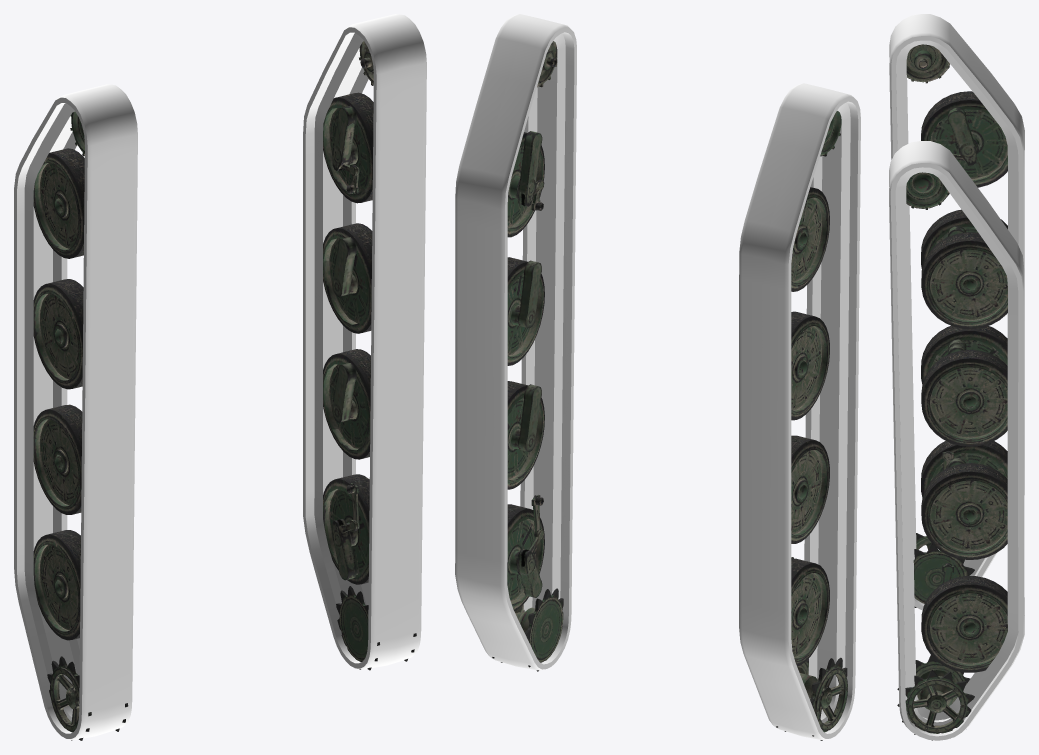
Rendered from Chassis.glb.
The picture shows the model from 3 angles, left to right: view 1: azimuth 30°, elevation 25°; view 2: azimuth 150°, elevation 25°; view 3: azimuth 270°, elevation 25°; orthographic projection. The views are drawn at different scales.
Visible parts, largest first — view 1: set_0_group_0, set_1_group_0, set_2_group_0, set_3_group_0; view 2: set_0_group_0, set_1_group_0, set_3_group_0, set_2_group_0; view 3: set_3_group_0, set_1_group_0, set_2_group_0, set_0_group_0.
Boxes of the visible parts, x1,y1,x2,y2 form: set_0_group_0: [14, 84, 137, 739]; set_1_group_0: [303, 14, 426, 669]; set_2_group_0: [33, 111, 128, 740]; set_3_group_0: [323, 41, 416, 670]; set_0_group_0: [739, 83, 860, 739]; set_1_group_0: [455, 14, 576, 670]; set_3_group_0: [492, 41, 563, 671]; set_2_group_0: [776, 111, 847, 740]; set_3_group_0: [897, 172, 1007, 740]; set_1_group_0: [889, 141, 1024, 740]; set_2_group_0: [906, 44, 1007, 607]; set_0_group_0: [889, 14, 1024, 610].
Bounding box in the file's own units: 2.75 × 5.02 × 1.06.
4 materials, 2 textured.
